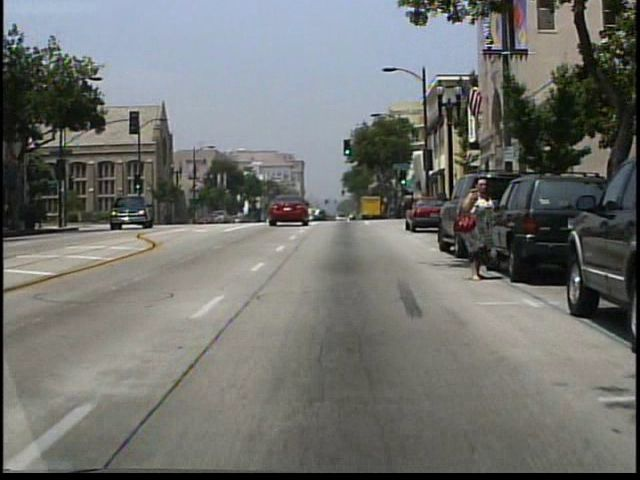person: (457, 175, 509, 284)
